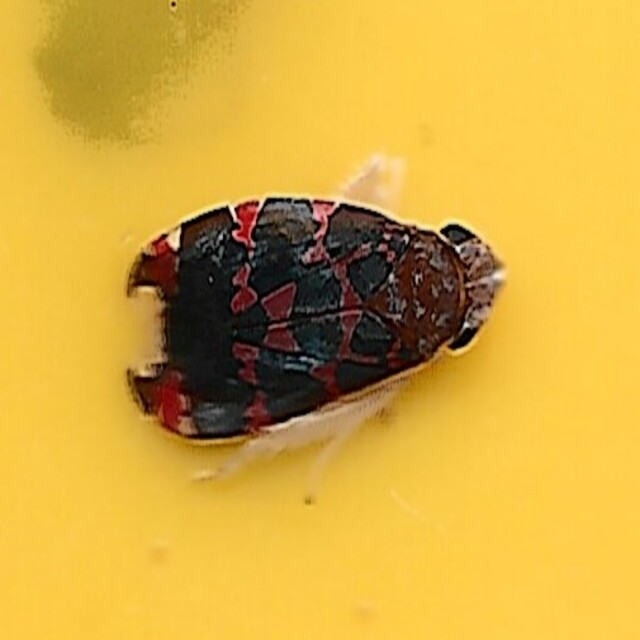Hemiptera: (127, 190, 513, 450)
